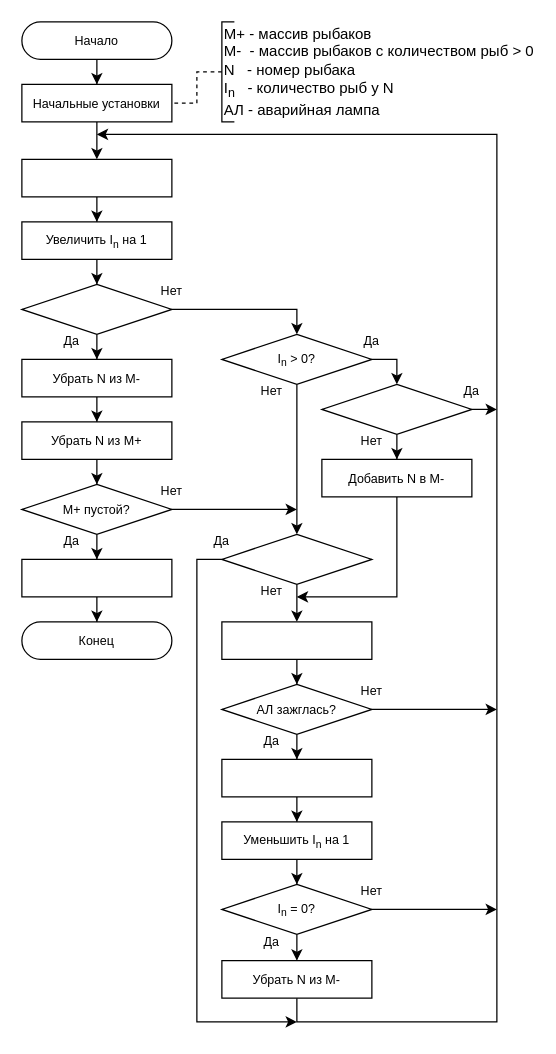
This 556x1054 diagram has some shape labels left out. Each missing label, with the box of its shape:
I n = 10?: (21, 283, 172, 334)
M- пустой?: (221, 533, 372, 584)
N есть в M-?: (321, 383, 472, 434)
Генератор АЛ: (221, 621, 372, 659)
Завершение алгоритма: (21, 558, 172, 597)
Сгенерировать N из M+: (21, 158, 172, 197)
Сгенерировать N из M-: (221, 758, 372, 797)
